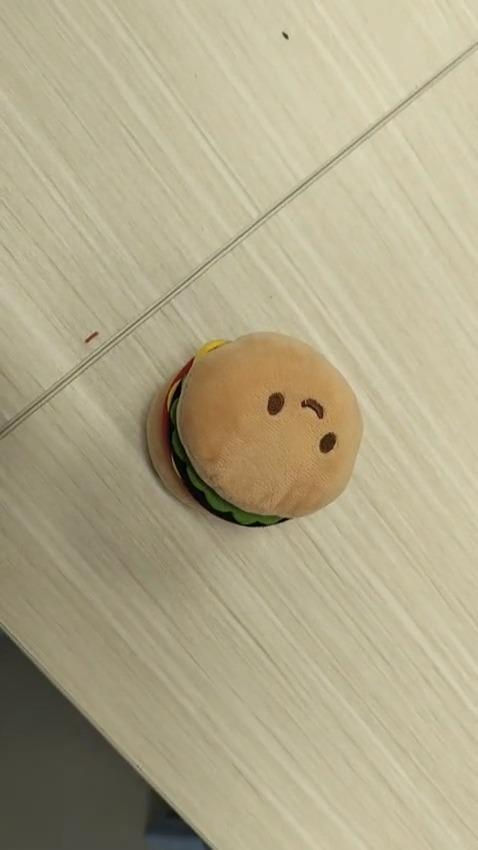hamburger: (145, 330, 363, 528)
